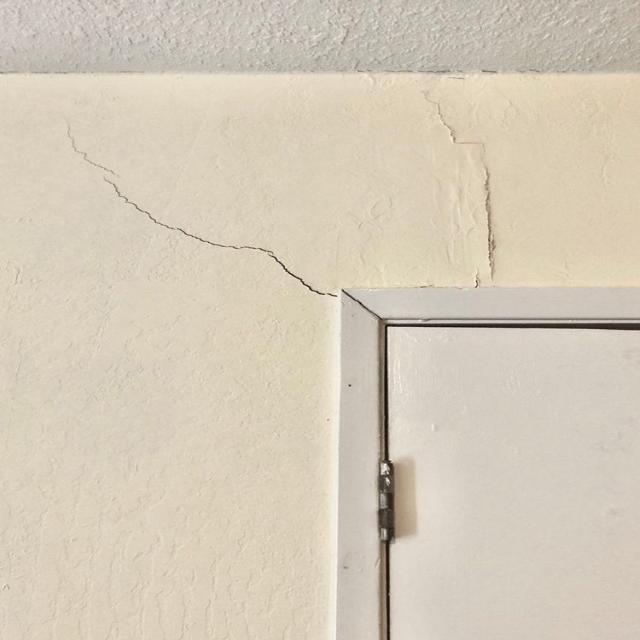Crack: (63, 120, 340, 298), (426, 91, 493, 283)
